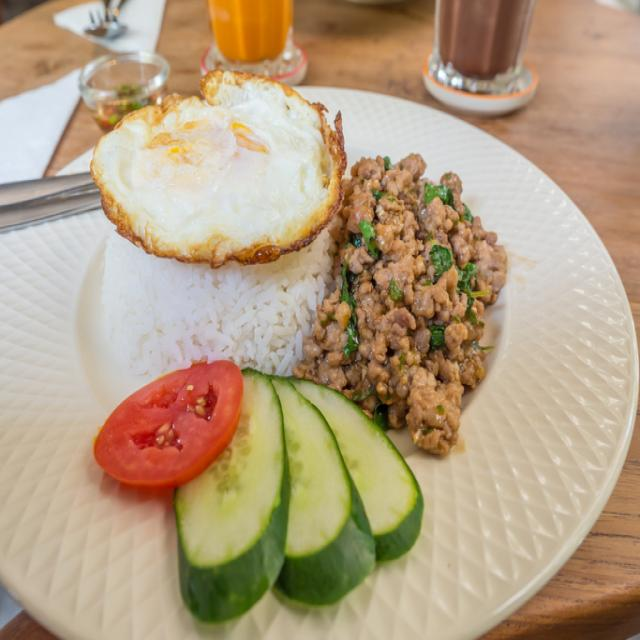Carbohydrate: (96, 202, 342, 382)
Kaow-Padkrapao: (0, 77, 640, 635)
Protein: (290, 136, 512, 430), (91, 72, 346, 266)
Vegetable: (91, 358, 424, 620)
